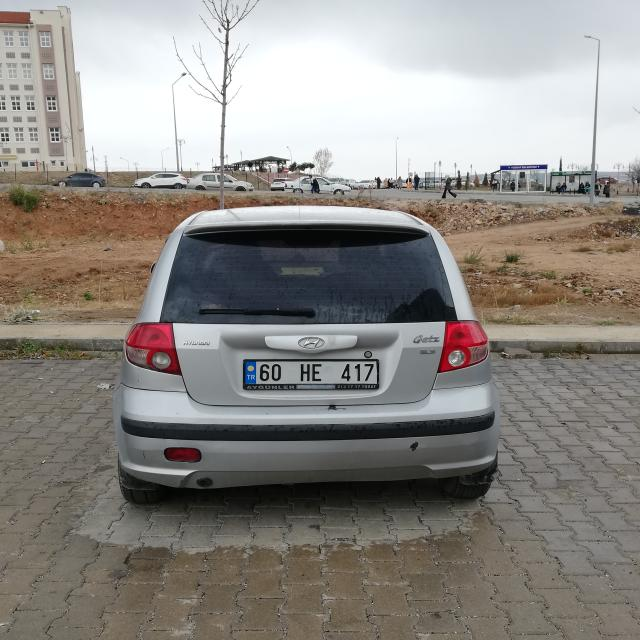license_plate: (242, 360, 378, 385)
